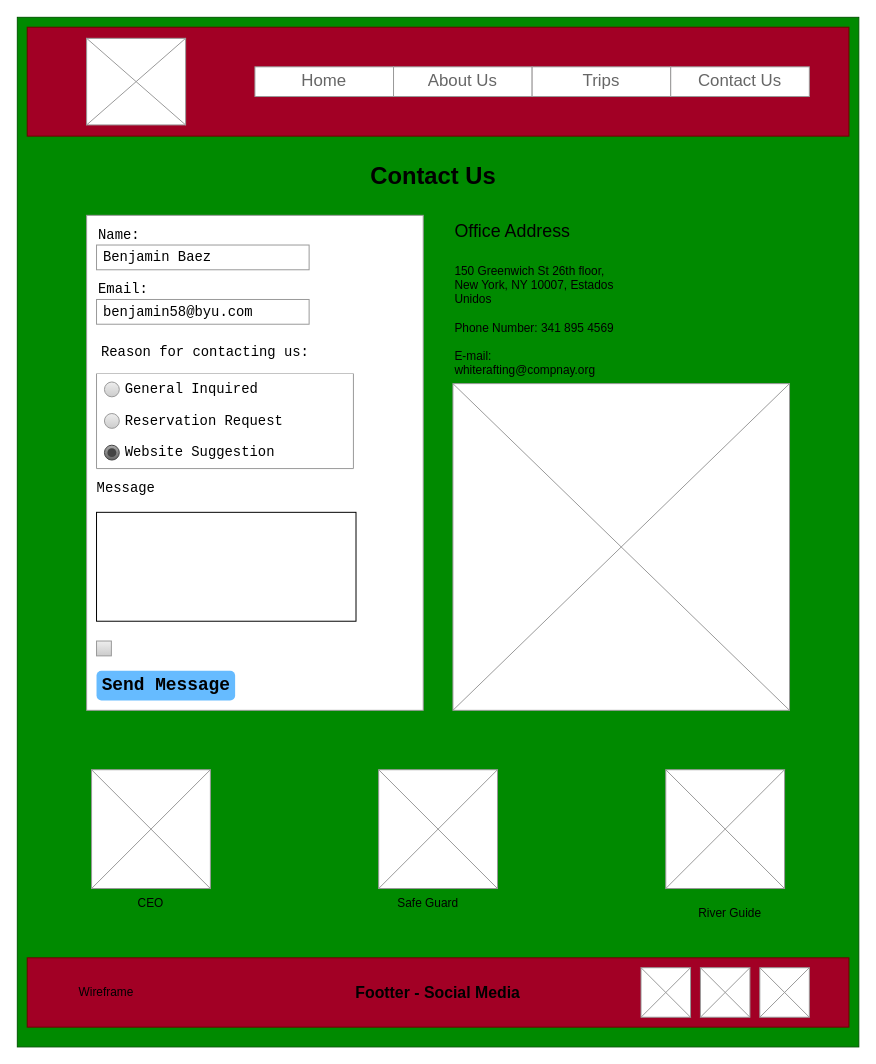
Some shapes in this 876 by 1064 pixel diagram are drawn without their labels. The shapes that lost their labels are listed below. From the top down, each one's centre as x and y in pixels, then its label:
At point 621,546: "Using the Maps to display the ubication".
At point 103,648: "Please suscribe me to the monthly newsletter".
